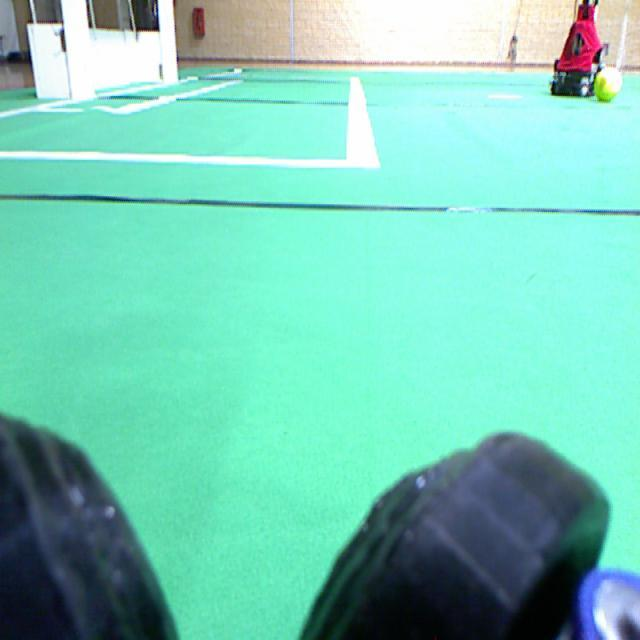ball: (594, 67, 621, 100)
goal: (61, 0, 94, 100), (158, 0, 177, 84)
